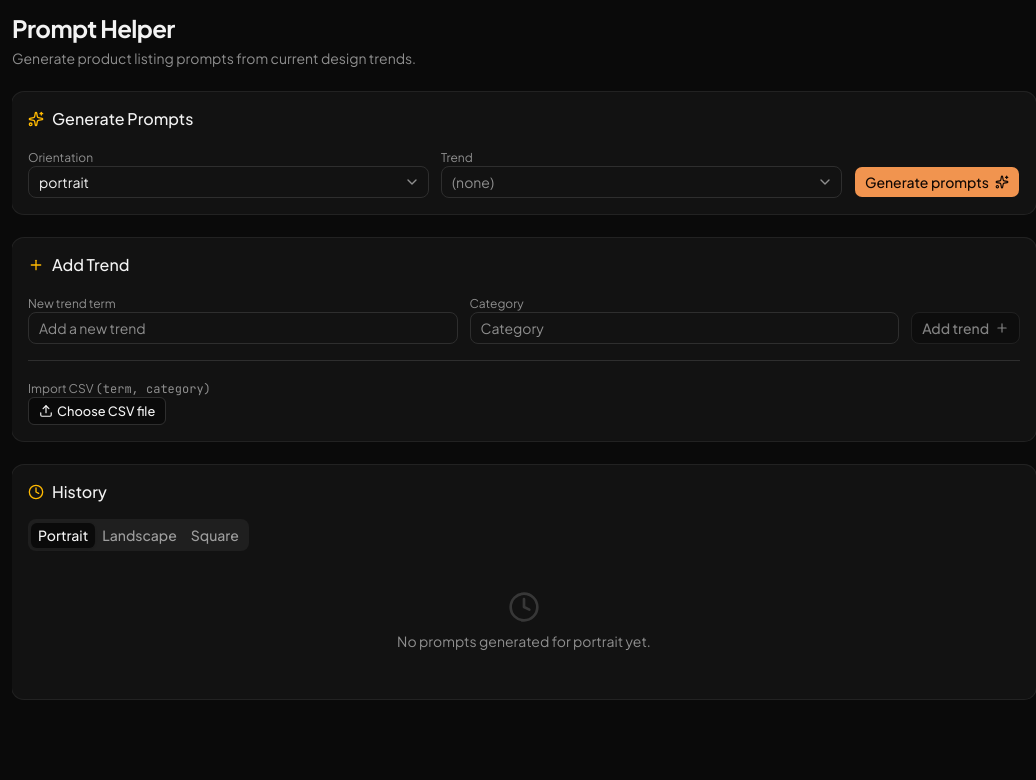
Scenario: PromptHelper › shows an error if generation fails
The width and height of the screenshot is (1036, 780).
Click the button "Generate prompts". click: (937, 182)
box: [854,166,1020,198]
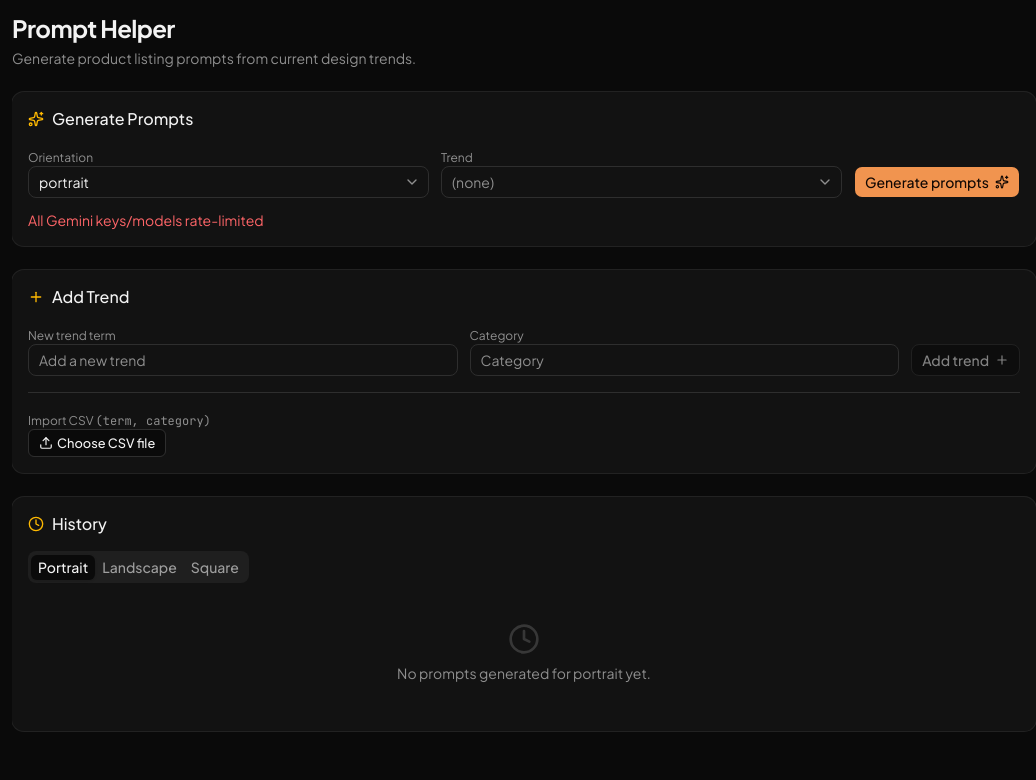
Expected: the text "All Gemini keys/models rate-limited" is shown, [28,211,264,229]
